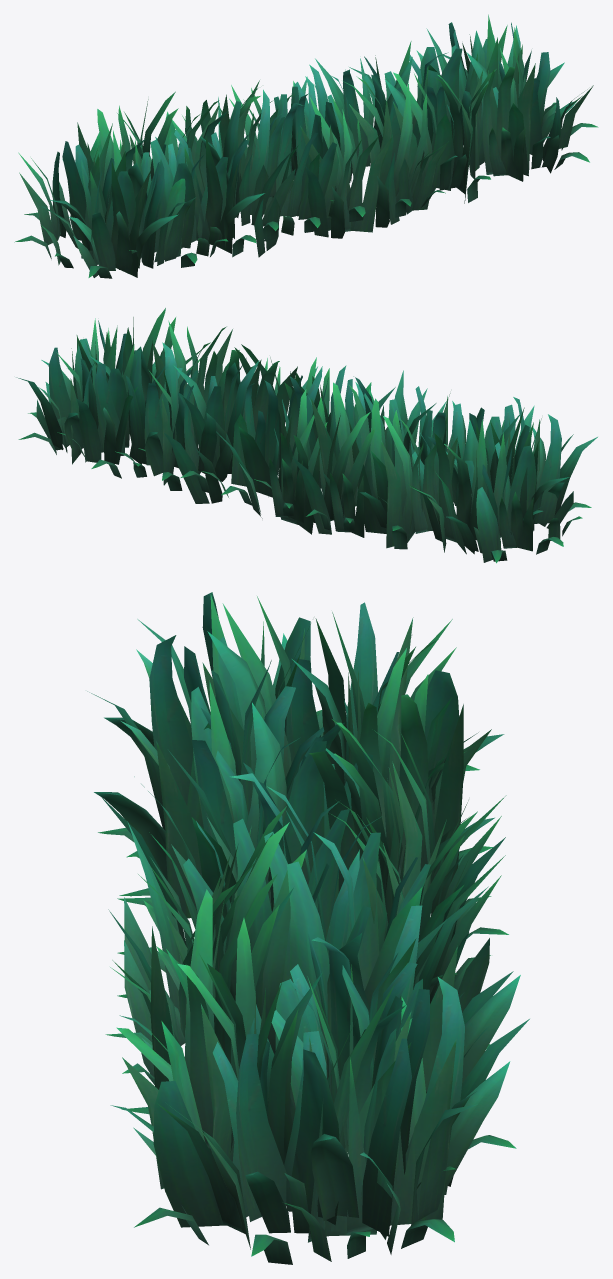
The model's file is pref_sm_beach_techgrass_alpha_01_lv2.fbx.
The picture shows the model from 3 angles, top to bottom: view 1: azimuth 30°, elevation 25°; view 2: azimuth 150°, elevation 25°; view 3: azimuth 270°, elevation 25°; orthographic projection. The views are drawn at different scales.
Visible parts, largest first — view 1: pref_sm_beach_techgrass_alpha_01_lv2; view 2: pref_sm_beach_techgrass_alpha_01_lv2; view 3: pref_sm_beach_techgrass_alpha_01_lv2.
Part boxes in pixels (x1,y1,x2,y2): pref_sm_beach_techgrass_alpha_01_lv2: [14, 14, 598, 278]; pref_sm_beach_techgrass_alpha_01_lv2: [16, 308, 597, 563]; pref_sm_beach_techgrass_alpha_01_lv2: [87, 592, 529, 1264].
Size of the model in its own units: 8.33 by 2.09 by 2.97.
